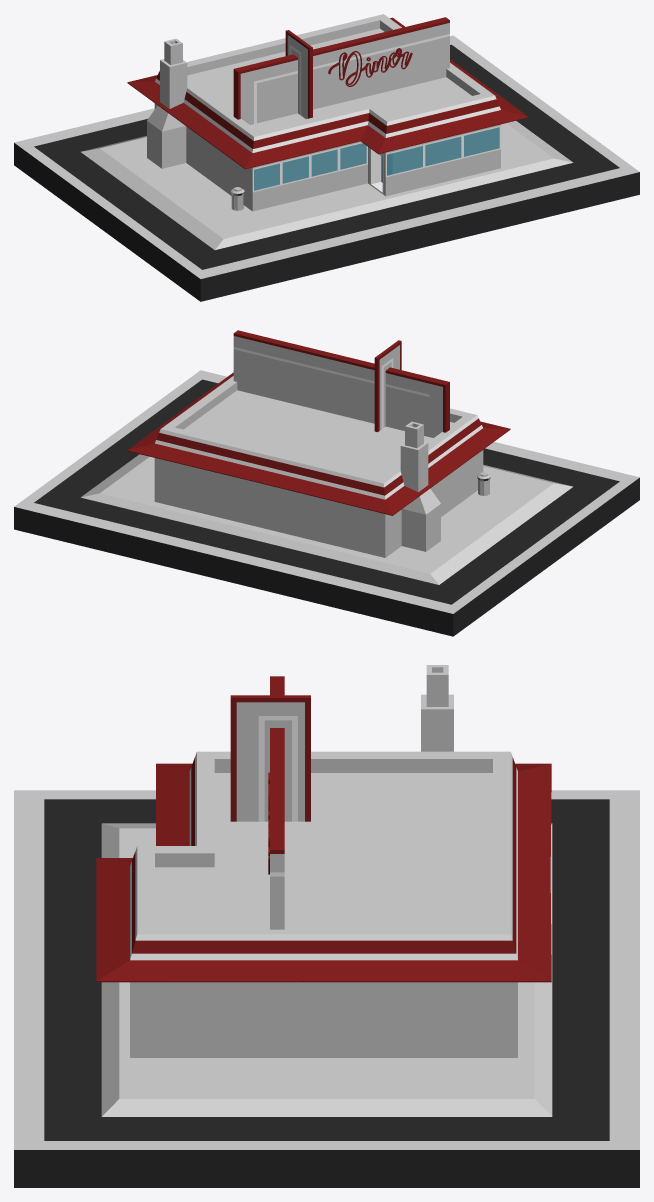
Rendered from diner.glb.
3 views of the same model, one above another, from view 1: azimuth 30°, elevation 25°; view 2: azimuth 150°, elevation 25°; view 3: azimuth 270°, elevation 25° (orthographic). The views are drawn at different scales.
Parts seen in each view (by area): view 1: Box002, Box001_ef2a3f, Box001_39aec6, Box002_cde9c0, Box002_3eb7e9, Box002_fc820e; view 2: Box002, Box001_ef2a3f, Box001_39aec6, Box002_cde9c0, Box002_3eb7e9; view 3: Box002, Box001_ef2a3f, Box001_39aec6, Box002_cde9c0, Box002_3eb7e9.
Part boxes in pixels (x1,y1,x2,y2): Box002: (147,14,500,211); Box001_ef2a3f: (14,44,639,301); Box001_39aec6: (14,35,639,278); Box002_cde9c0: (127,17,528,169); Box002_3eb7e9: (155,34,500,194); Box002_fc820e: (254,127,499,190); Box002: (154,336,489,557); Box001_ef2a3f: (14,379,639,636); Box001_39aec6: (14,370,639,613); Box002_cde9c0: (127,330,510,515); Box002_3eb7e9: (155,347,482,499); Box002: (130,665,517,1057); Box001_ef2a3f: (14,799,639,1187); Box001_39aec6: (14,790,639,1149); Box002_cde9c0: (96,676,551,982); Box002_3eb7e9: (130,716,517,960).
Size of the model in its own units: 301 by 107 by 221.
